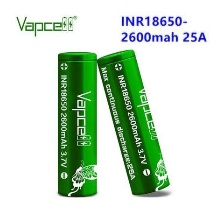battery: (95, 42, 171, 198), (55, 46, 99, 200)
